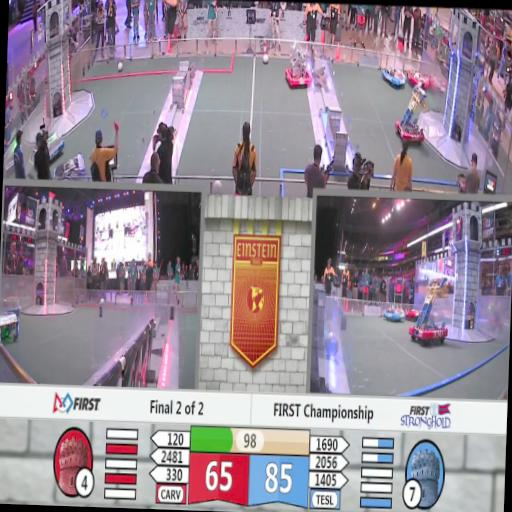robot: (410, 273, 454, 340), (394, 82, 430, 144), (283, 36, 315, 88), (52, 154, 88, 182), (42, 128, 66, 160), (0, 313, 22, 346), (380, 63, 410, 86), (406, 67, 430, 89), (0, 295, 21, 316), (382, 306, 405, 322), (404, 304, 422, 318)
